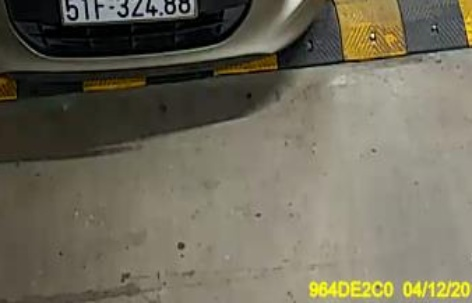plate: (60, 1, 197, 27)
